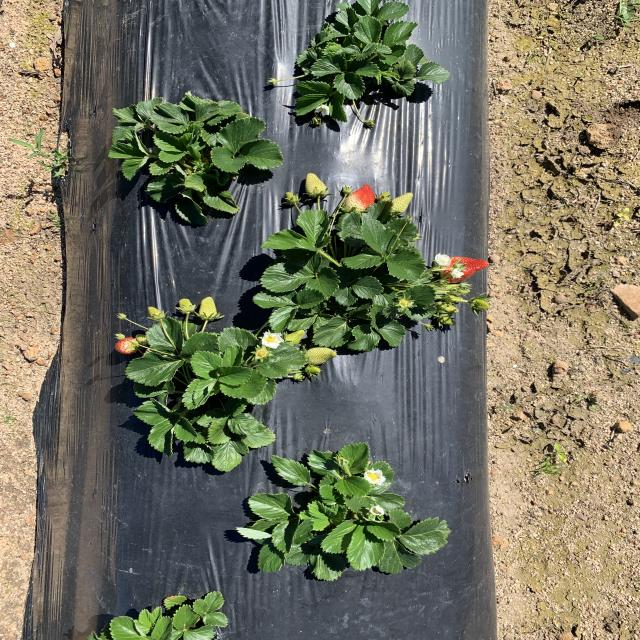unripe: (437, 256, 489, 278), (345, 183, 375, 214), (114, 338, 142, 354)
